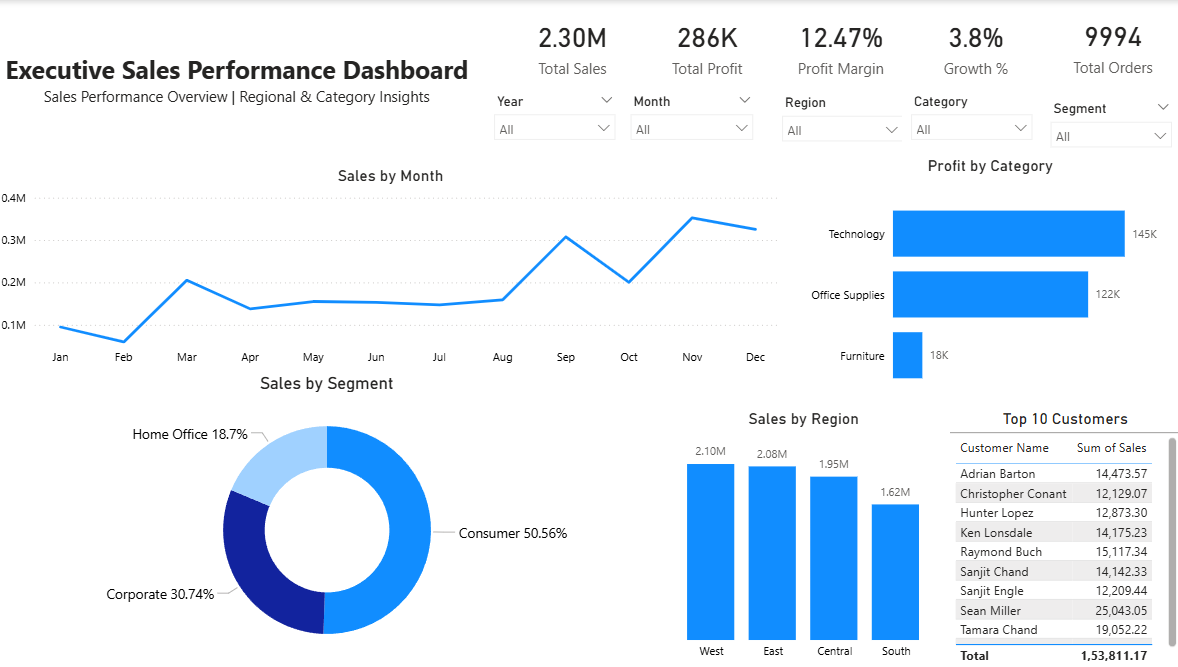

The dashboard page shown, as its layout file describes it:
{"tool":"powerbi","page":{"name":"Page 1","canvas":[1280,720],"ordinal":0},"visuals":[{"type":"card","fields":{"Values":["Calendar.Total Sales"]},"box":[548.9,0,145.7,97.2],"z":0,"group":"g2"},{"type":"lineChart","title":"Sales by Month","fields":{"Y":["Sum(Orders.Sales)"],"Category":["Calendar.Month"]},"box":[0,179.7,851.7,262.3],"z":0},{"type":"columnChart","title":"Sales by Region","fields":{"Category":["Customers.Region"],"Y":["Sum(Orders.Sales)"]},"box":[714.1,442,315.7,278.5],"z":1000},{"type":"card","fields":{"Values":["Calendar.Growth %"]},"box":[984.9,0,145.7,97.2],"z":2000,"group":"g2"},{"type":"barChart","title":"Profit by Category","fields":{"Y":["Sum(Orders.Profit)"],"Category":["Products.Category"]},"box":[867.9,168.4,411.3,273.6],"z":2000},{"type":"card","fields":{"Values":["Orders.Profit Margin"]},"box":[839.6,0,145.7,97.2],"z":3000,"group":"g2"},{"type":"tableEx","title":"Top 10 Customers","fields":{"Values":["Customers.Customer Name","Sum(Orders.Sales)"]},"box":[1029.8,442,249.4,278.5],"z":3000},{"type":"card","fields":{"Values":["Orders.Total Profit"]},"box":[694.2,0,145.7,97.2],"z":4000,"group":"g2"},{"type":"donutChart","title":"Sales by Segment","fields":{"Category":["Customers.Segment"],"Y":["Sum(Orders.Sales)"]},"box":[0,442,714.1,278.5],"z":4000},{"type":"group","id":"g1","title":"Group 1","box":[528.1,94.8,751.2,75.2],"z":5000},{"type":"textbox","box":[0,51.8,519.8,79.3],"z":6000},{"type":"group","id":"g2","title":"Group 2","box":[548.9,0,731.1,97.2],"z":7000},{"type":"card","fields":{"Values":["Orders.Total Orders"]},"box":[1129.4,0,150.6,95.5],"z":7001,"group":"g2"},{"type":"slicer","fields":{"Values":["Calendar.Year"]},"box":[528.1,95.3,150.6,74.5],"z":10000,"group":"g1"},{"type":"slicer","fields":{"Values":["Calendar.Month"]},"box":[675.3,94.8,152.2,72.9],"z":11000,"group":"g1"},{"type":"slicer","fields":{"Values":["Customers.Region"]},"box":[838.8,97.1,150.6,72.9],"z":12000,"group":"g1"},{"type":"slicer","fields":{"Values":["Products.Category"]},"box":[978.1,95.1,150.6,72.9],"z":13000,"group":"g1"},{"type":"slicer","fields":{"Values":["Customers.Segment"]},"box":[1128.7,103.2,150.6,66.4],"z":14000,"group":"g1"}]}

Visuals, with their boxes in screenshot pixels (x1, y1, x2, y2), scaled from the page's 1280x720 canvas onto the 1178x667 screenshot:
card - Calendar.Total Sales: <box>505,0,639,90</box>
"Sales by Month" lineChart: <box>0,166,784,409</box>
"Sales by Region" columnChart: <box>657,409,948,666</box>
card - Calendar.Growth %: <box>906,0,1041,90</box>
"Profit by Category" barChart: <box>799,156,1177,409</box>
card - Orders.Profit Margin: <box>773,0,907,90</box>
"Top 10 Customers" tableEx: <box>948,409,1177,666</box>
card - Orders.Total Profit: <box>639,0,773,90</box>
"Sales by Segment" donutChart: <box>0,409,657,666</box>
"Group 1" group: <box>486,88,1177,157</box>
textbox: <box>0,48,478,121</box>
"Group 2" group: <box>505,0,1177,90</box>
card - Orders.Total Orders: <box>1039,0,1177,88</box>
slicer - Calendar.Year: <box>486,88,625,157</box>
slicer - Calendar.Month: <box>621,88,762,155</box>
slicer - Customers.Region: <box>772,90,911,157</box>
slicer - Products.Category: <box>900,88,1039,156</box>
slicer - Customers.Segment: <box>1039,96,1177,157</box>
